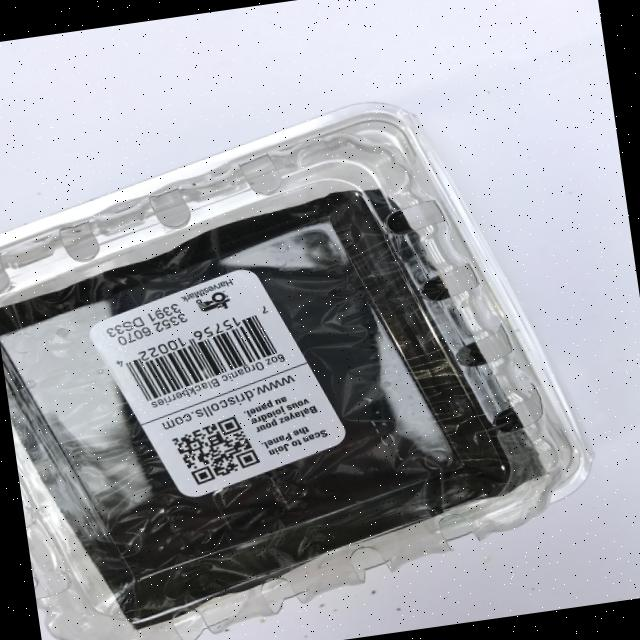plastic: (0, 77, 614, 640)
